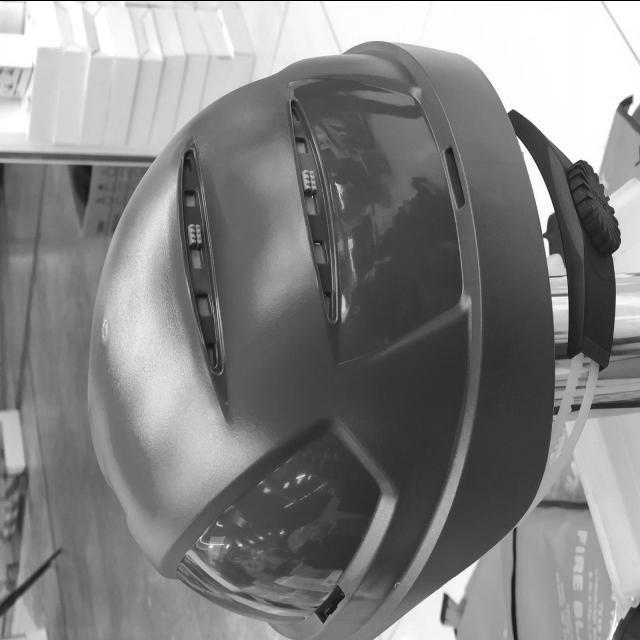safety_helmet: (88, 38, 573, 640)
